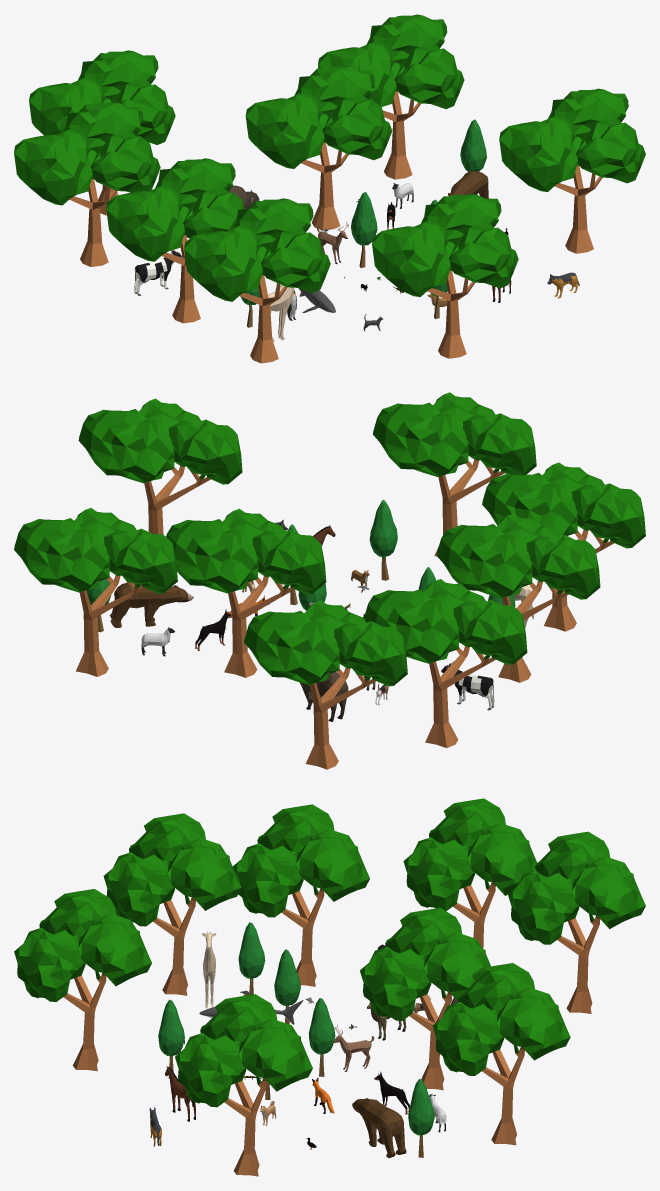
The model's file is PopulatedHabitatModel.glb.
The picture shows the model from 3 angles, top to bottom: view 1: azimuth 30°, elevation 25°; view 2: azimuth 150°, elevation 25°; view 3: azimuth 270°, elevation 25°; orthographic projection. The views are drawn at different scales.
Parts seen in each view (by area): view 1: Tree_average_regular.009, Tree_average_regular.011, Tree_average_regular.012, Tree_average_regular, Tree_average_regular.008, Tree_average_regular.002, Tree_average_regular.004, Tree_average_regular.006, Tree_small_regular.001, Tree_small_regular.004, 13cowFinal, 08bearFinal (+1 smaller); view 2: Tree_average_regular.006, Tree_average_regular.004, Tree_average_regular, Tree_average_regular.012, Tree_average_regular.011, Tree_average_regular.008, Tree_average_regular.002, Tree_average_regular.009, 08bearFinal, Tree_small_regular.005, 13cowFinal, 04bizonFinal; view 3: Tree_average_regular.011, Tree_average_regular.012, Tree_average_regular.004, Tree_average_regular.006, Tree_average_regular.009, Tree_average_regular.002, Tree_average_regular.008, Tree_average_regular, 08bearFinal, Tree_small_regular.004, Tree_small_regular.001, Tree_small_regular.002 (+5 smaller).
Boxes of the visible parts, bbox=[...] form: Tree_average_regular.009: bbox=[184, 198, 330, 363]; Tree_average_regular.011: bbox=[372, 193, 518, 358]; Tree_average_regular.012: bbox=[499, 88, 645, 253]; Tree_average_regular: bbox=[245, 65, 392, 230]; Tree_average_regular.008: bbox=[14, 102, 160, 266]; Tree_average_regular.002: bbox=[106, 158, 244, 323]; Tree_average_regular.004: bbox=[318, 14, 464, 179]; Tree_average_regular.006: bbox=[29, 50, 175, 215]; Tree_small_regular.001: bbox=[351, 192, 377, 267]; Tree_small_regular.004: bbox=[460, 119, 486, 171]; 13cowFinal: bbox=[134, 249, 182, 295]; 08bearFinal: bbox=[448, 170, 488, 198]; Tree_average_regular.006: bbox=[244, 600, 407, 769]; Tree_average_regular.004: bbox=[14, 508, 177, 676]; Tree_average_regular: bbox=[166, 508, 326, 677]; Tree_average_regular.012: bbox=[78, 398, 242, 534]; Tree_average_regular.011: bbox=[373, 392, 536, 556]; Tree_average_regular.008: bbox=[364, 579, 527, 747]; Tree_average_regular.002: bbox=[436, 513, 600, 682]; Tree_average_regular.009: bbox=[482, 462, 645, 631]; 08bearFinal: bbox=[110, 582, 193, 627]; Tree_small_regular.005: bbox=[369, 500, 397, 580]; 13cowFinal: bbox=[441, 661, 494, 710]; 04bizonFinal: bbox=[299, 671, 348, 721]; Tree_average_regular.011: bbox=[14, 889, 151, 1071]; Tree_average_regular.012: bbox=[175, 994, 312, 1176]; Tree_average_regular.004: bbox=[432, 963, 570, 1145]; Tree_average_regular.006: bbox=[508, 831, 645, 1013]; Tree_average_regular.009: bbox=[103, 813, 241, 995]; Tree_average_regular.002: bbox=[232, 804, 369, 986]; Tree_average_regular.008: bbox=[403, 798, 536, 948]; Tree_average_regular: bbox=[360, 908, 490, 1090]; 08bearFinal: bbox=[352, 1098, 406, 1158]; Tree_small_regular.004: bbox=[408, 1079, 434, 1157]; Tree_small_regular.001: bbox=[308, 998, 335, 1076]; Tree_small_regular.002: bbox=[238, 922, 265, 994].
Bounding box in the file's own units: 26.35 × 7.08 × 26.36.
Materials: 53 (25 with a texture image).
